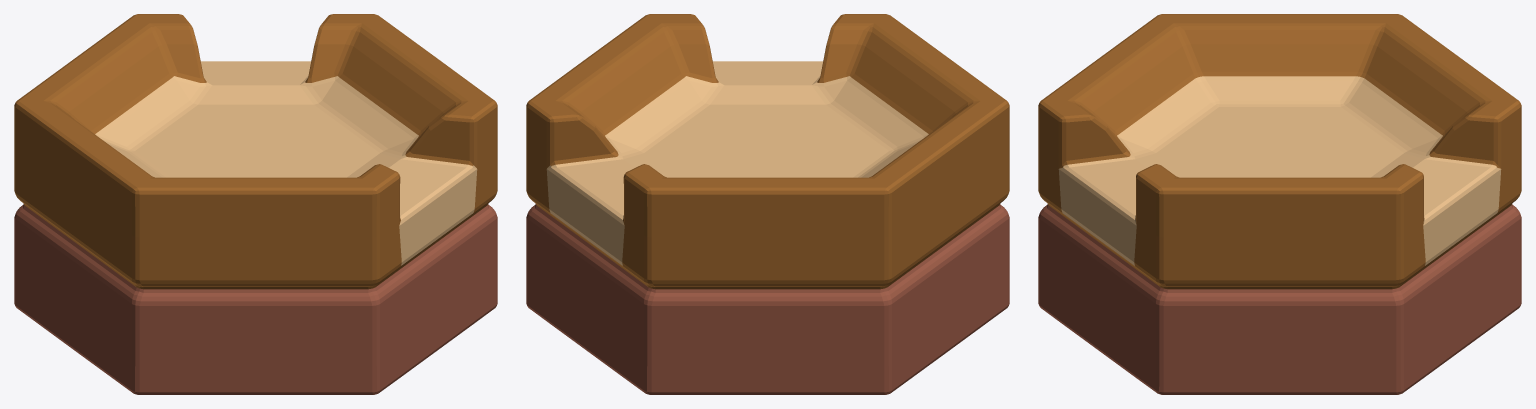
File: my_road_13.fbx
The picture shows the model from 3 angles, left to right: view 1: azimuth 30°, elevation 25°; view 2: azimuth 150°, elevation 25°; view 3: azimuth 270°, elevation 25°; orthographic projection.
Parts seen in each view (by area): view 1: Circle.001; view 2: Circle.001; view 3: Circle.001.
Part boxes in pixels (<box>): Circle.001: <box>14,14,497,394</box>; Circle.001: <box>526,14,1009,394</box>; Circle.001: <box>1038,14,1521,394</box>.
Bounding box in the file's own units: 200 × 109 × 230.
